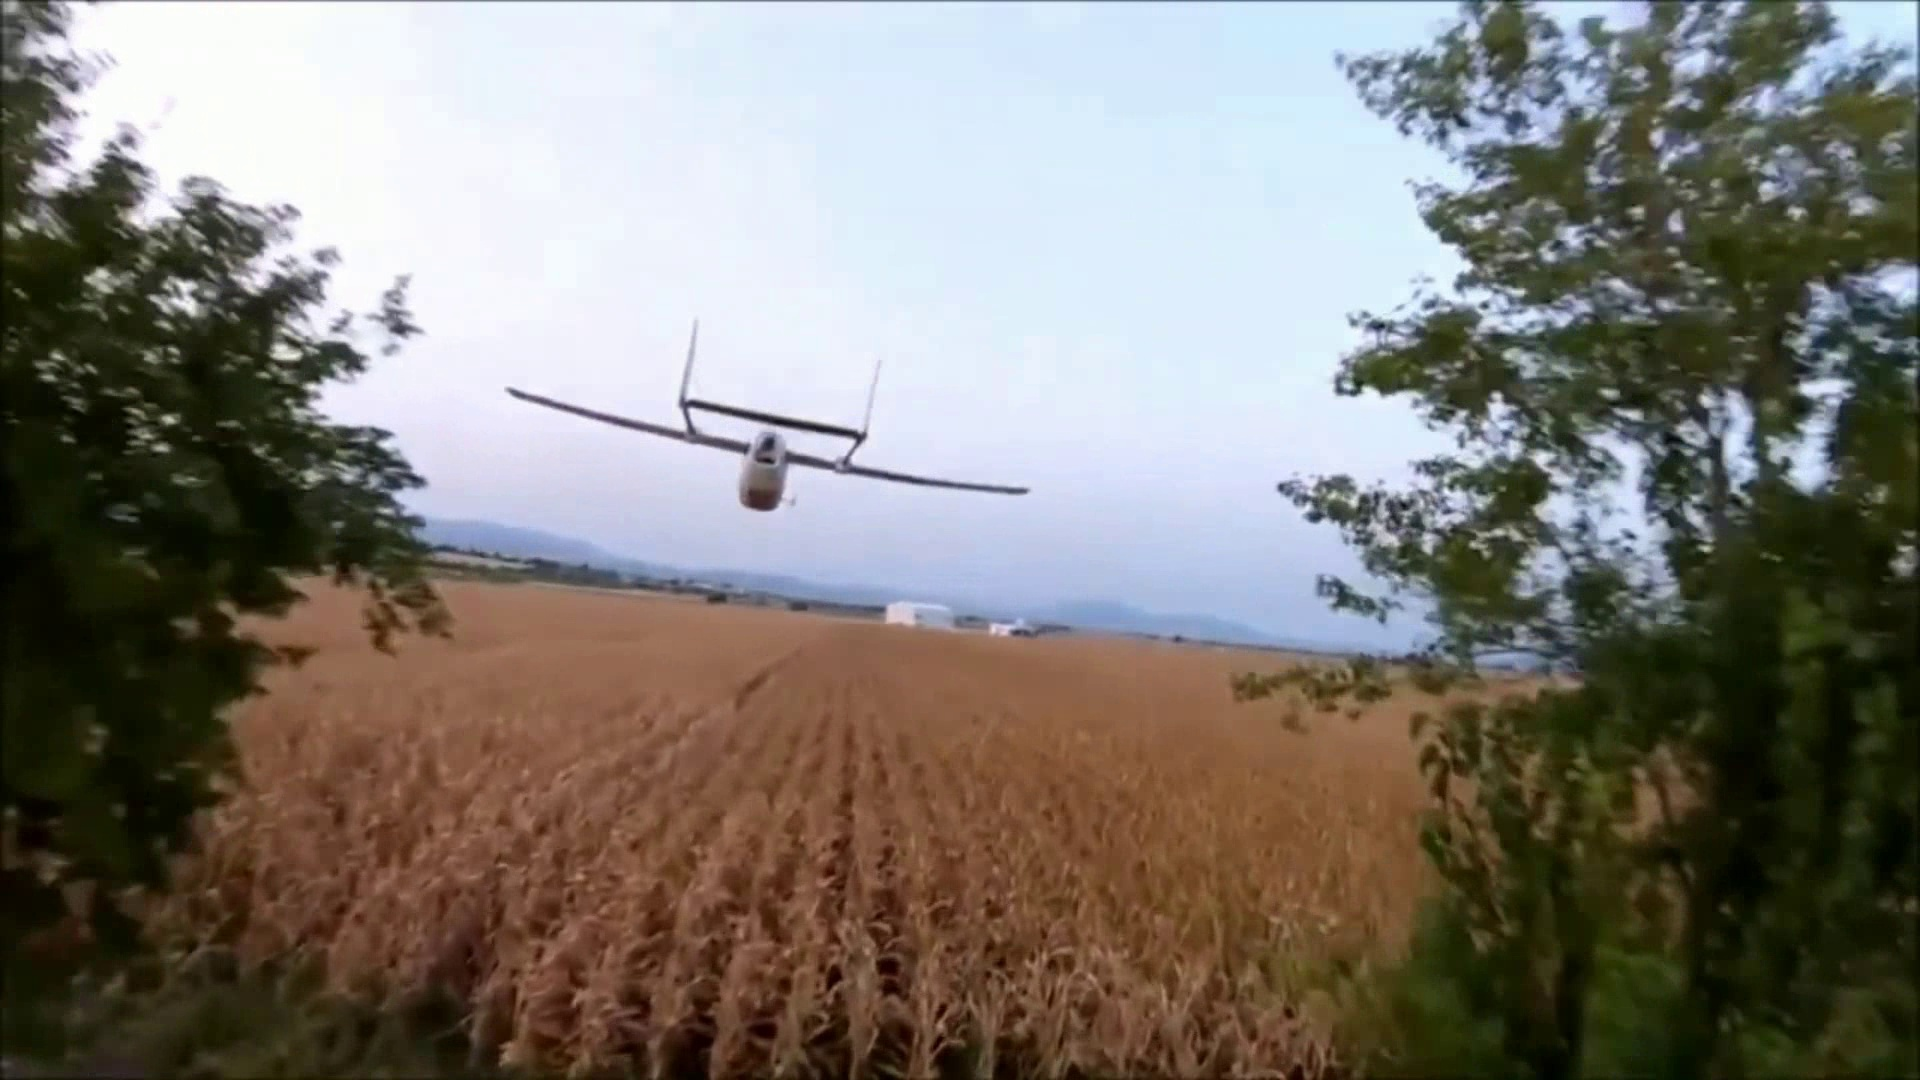airplane: (501, 316, 1034, 510)
